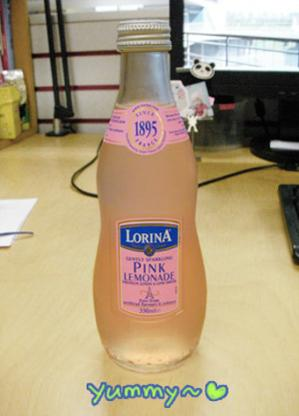Glass Bottle: (94, 16, 206, 372)
